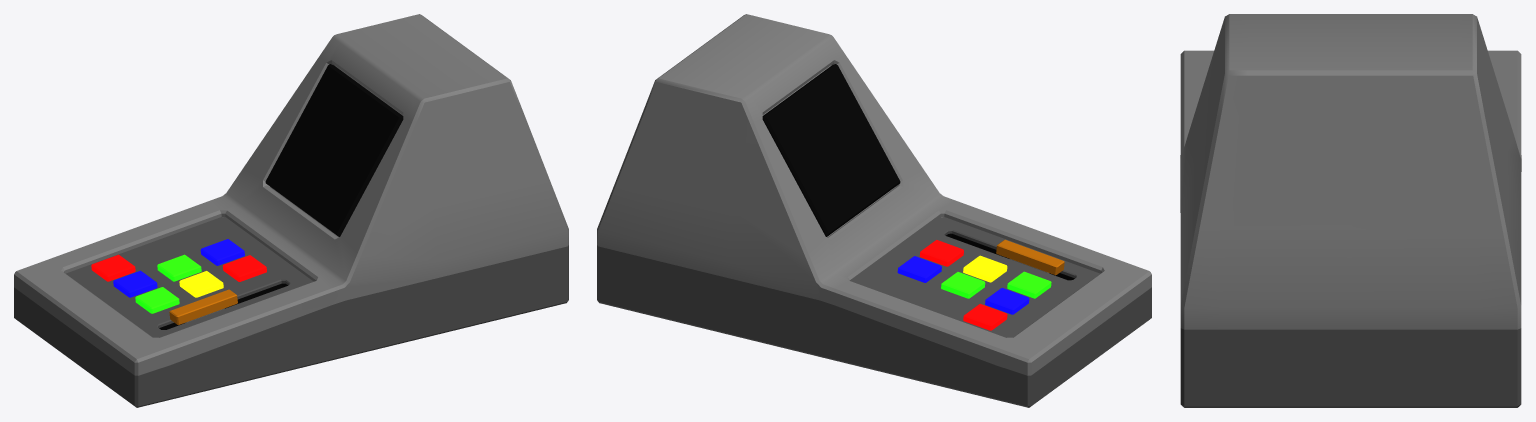
Rendered from Counter_Computer.fbx.
The picture shows the model from 3 angles, left to right: view 1: azimuth 30°, elevation 25°; view 2: azimuth 150°, elevation 25°; view 3: azimuth 270°, elevation 25°; orthographic projection. The views are drawn at different scales.
Visible parts, largest first — view 1: Counter_Computer, Counter_Computer_Screen; view 2: Counter_Computer, Counter_Computer_Screen; view 3: Counter_Computer.
Boxes of the visible parts, x1,y1,x2,y2 form: Counter_Computer: [14, 14, 568, 407]; Counter_Computer_Screen: [265, 64, 403, 236]; Counter_Computer: [597, 14, 1151, 407]; Counter_Computer_Screen: [762, 64, 900, 236]; Counter_Computer: [1180, 14, 1521, 407].
Bounding box in the file's own units: 0.9161 × 0.4509 × 0.45.
